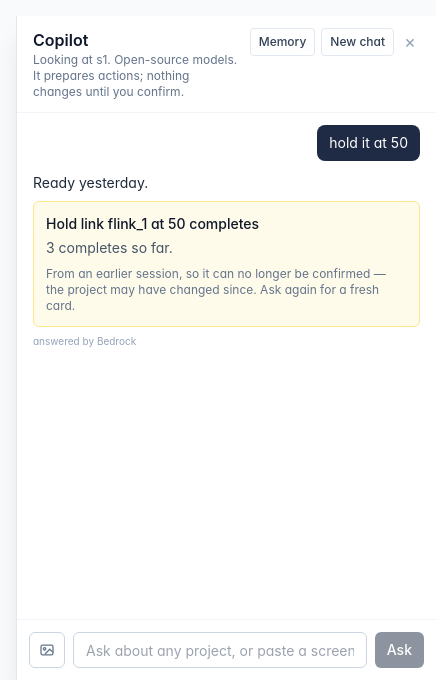
it: CopilotDrawer › reopens the last conversation, and its old cards cannot be confirmed
Expected: the text "Ready yesterday." is shown, [33,174,148,191]
Expected: the text "can no longer be confirmed" is shown, [46,266,386,313]
Type "still?" into the field with placeholder "Ask about any project, or paste a screenshot…" at (220, 650), box [73,632,367,668]
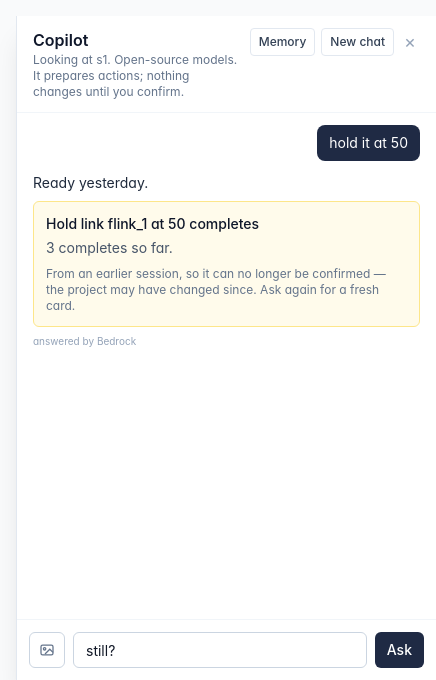
Click the button "Ask" at (399, 650), box [375,632,424,668]
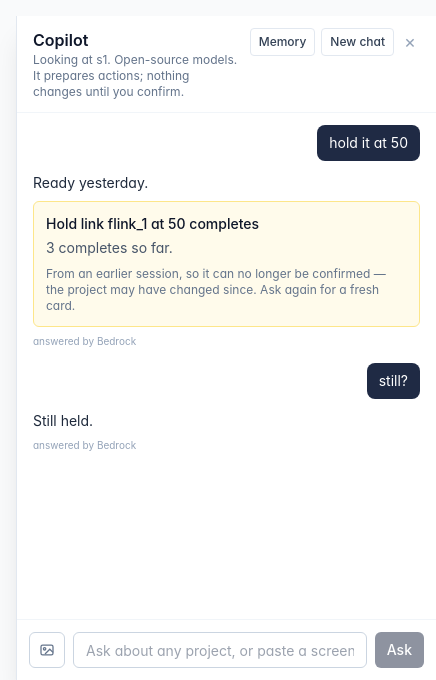
Result: the text "Still held." is shown at [33,412,93,429]
